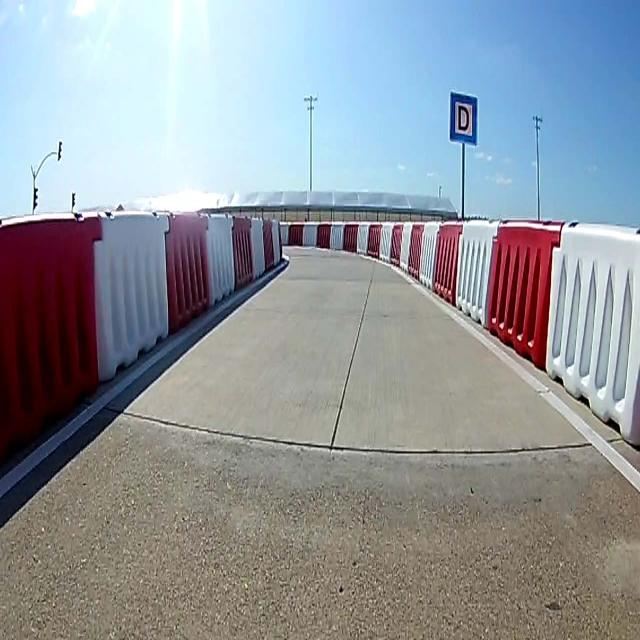durak: (450, 91, 476, 144)
